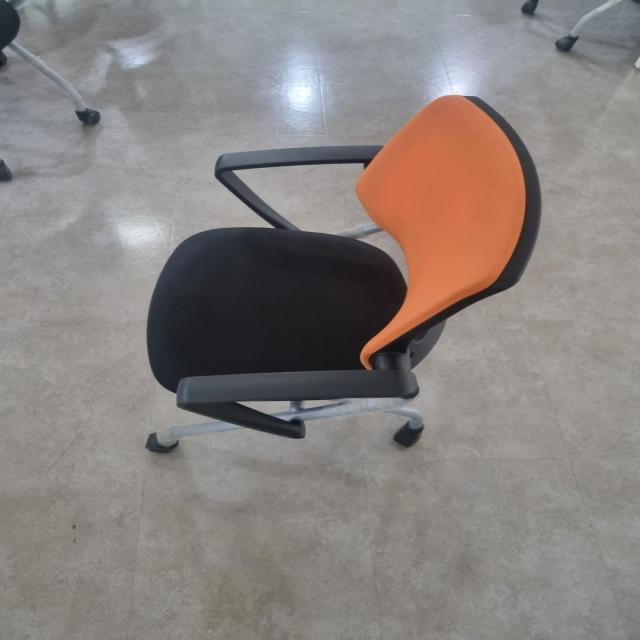Chair: (88, 70, 560, 480)
